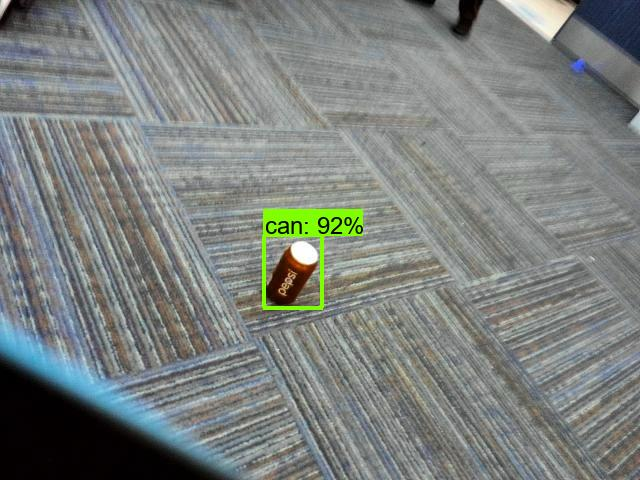can: (253, 226, 325, 314)
